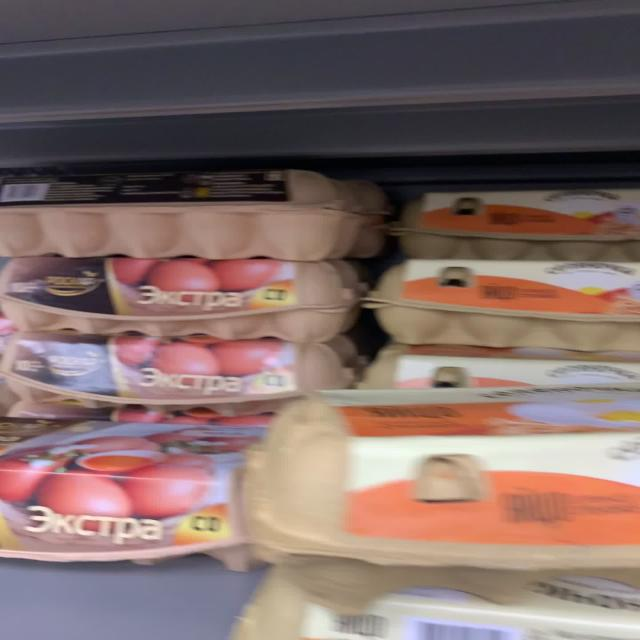egg box: (247, 391, 637, 577), (5, 430, 286, 574), (1, 340, 368, 427), (4, 173, 358, 261), (354, 254, 638, 356), (9, 263, 373, 341), (400, 189, 635, 256)
